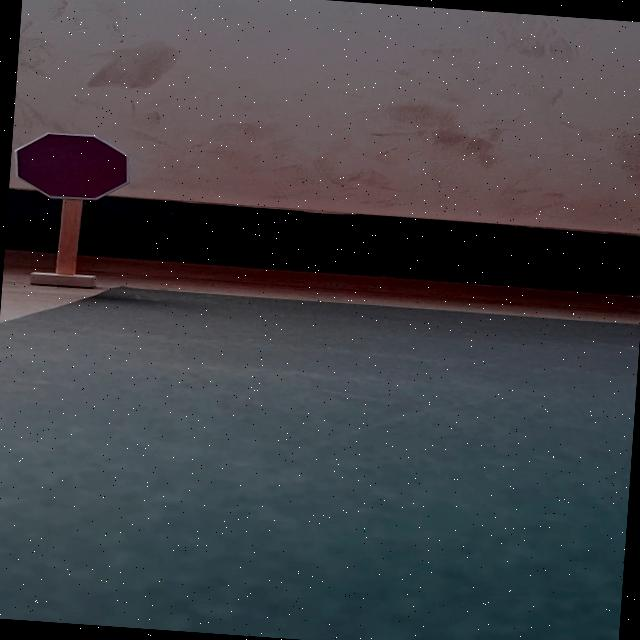Stop: (11, 129, 134, 204)
